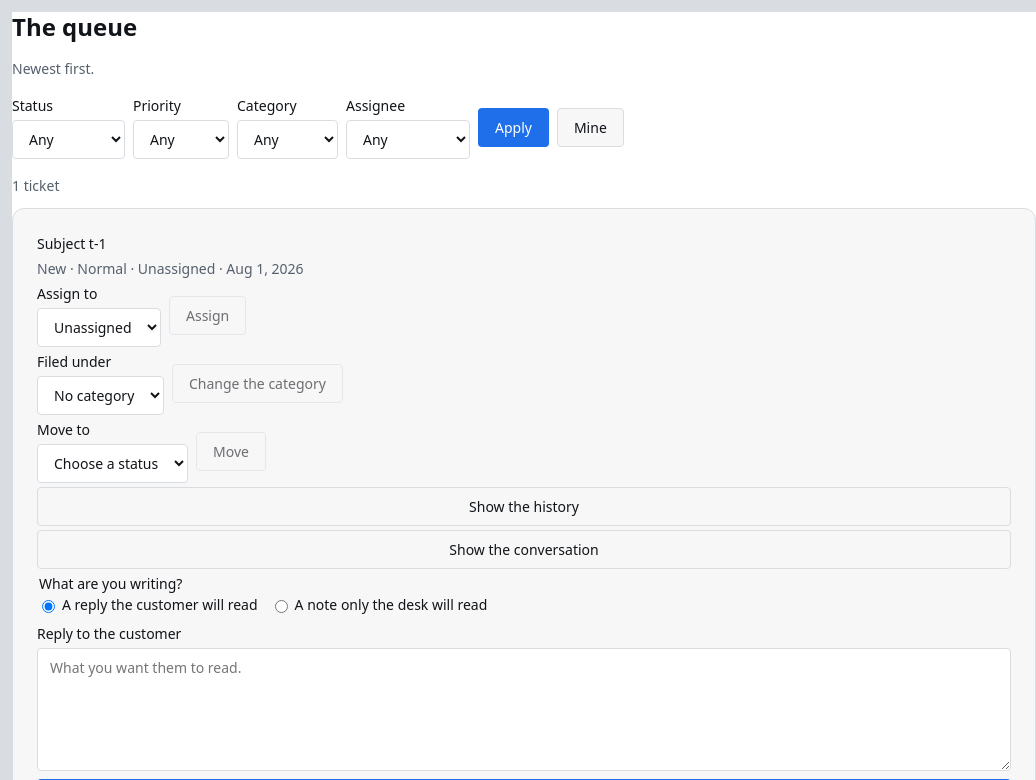
Test: a stale revision says the ticket changed, and offers to look again
Expected: the text "Subject t-1" is shown, [37,234,106,253]
Select "Billing" in the dropdown labelled "Filed under": (100, 396) [37,376,164,415]
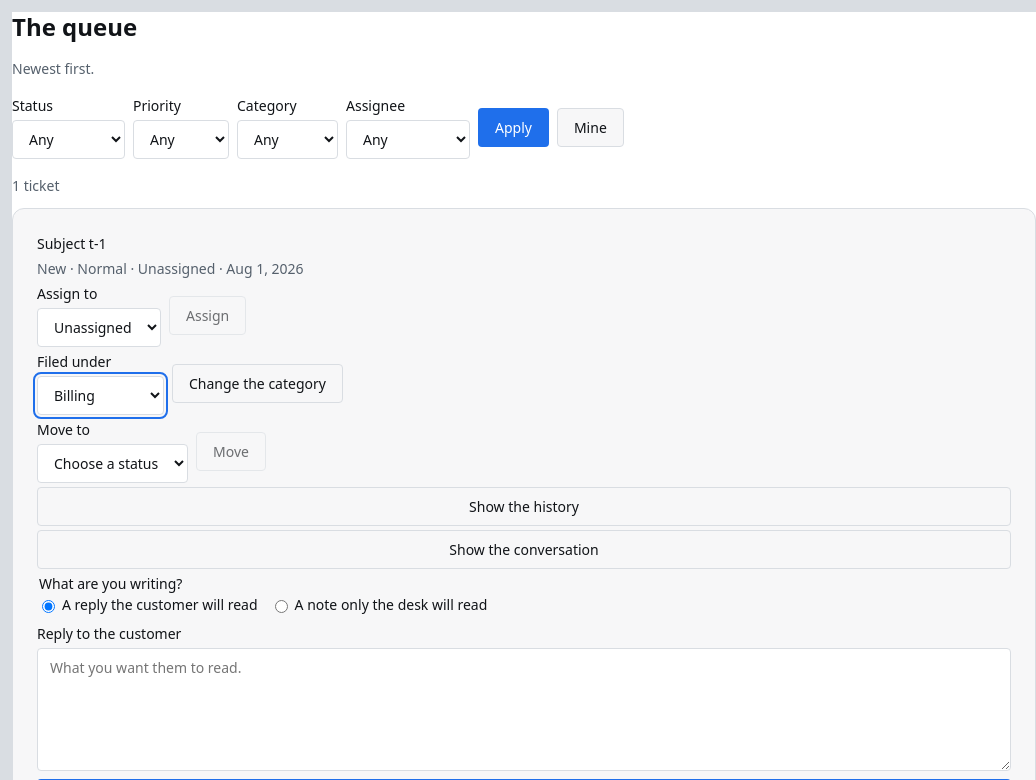
Click the button "Change the category": (257, 383) [172,364,343,402]
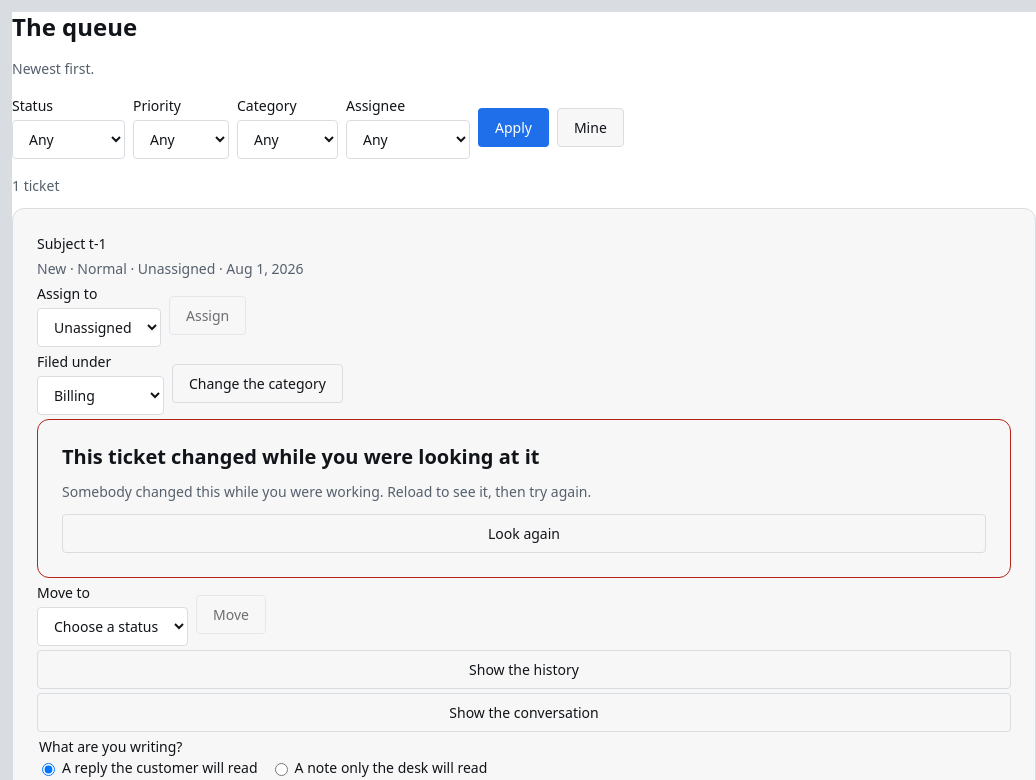
Expected: the heading "This ticket changed while you were looking at it" is shown, [62,443,539,470]
Expected: the text "Somebody changed this while you were working. Reload to see it, then try again." is shown, [62,482,591,501]
Expected: the button "Look again" is shown, [62,514,986,553]
